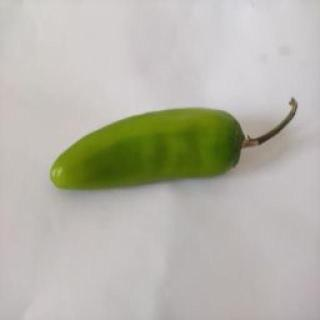Cabai Hijau: (48, 94, 306, 197)
